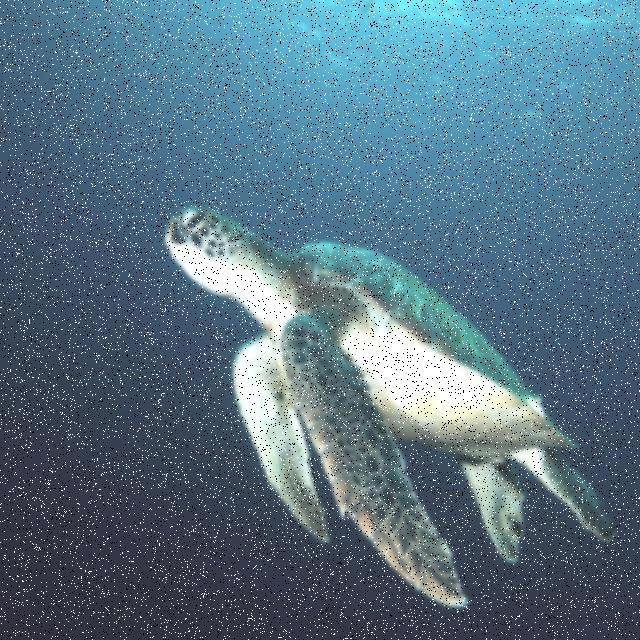tortoise: (147, 194, 618, 608)
